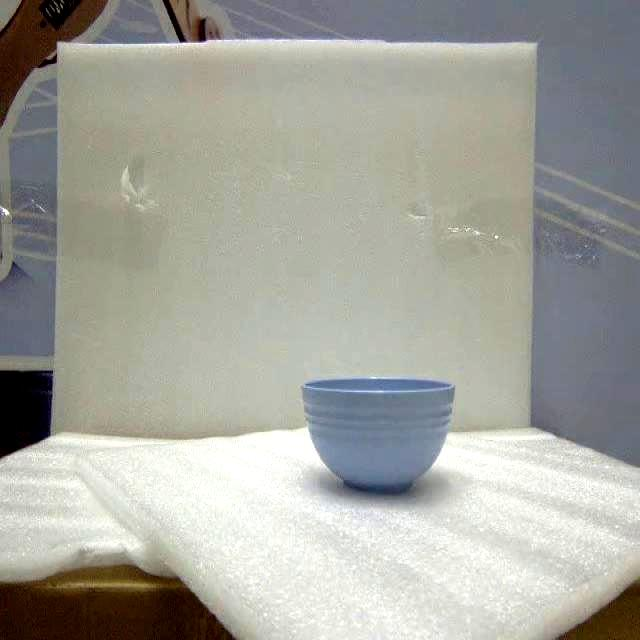Bowl: (302, 378, 454, 492)
